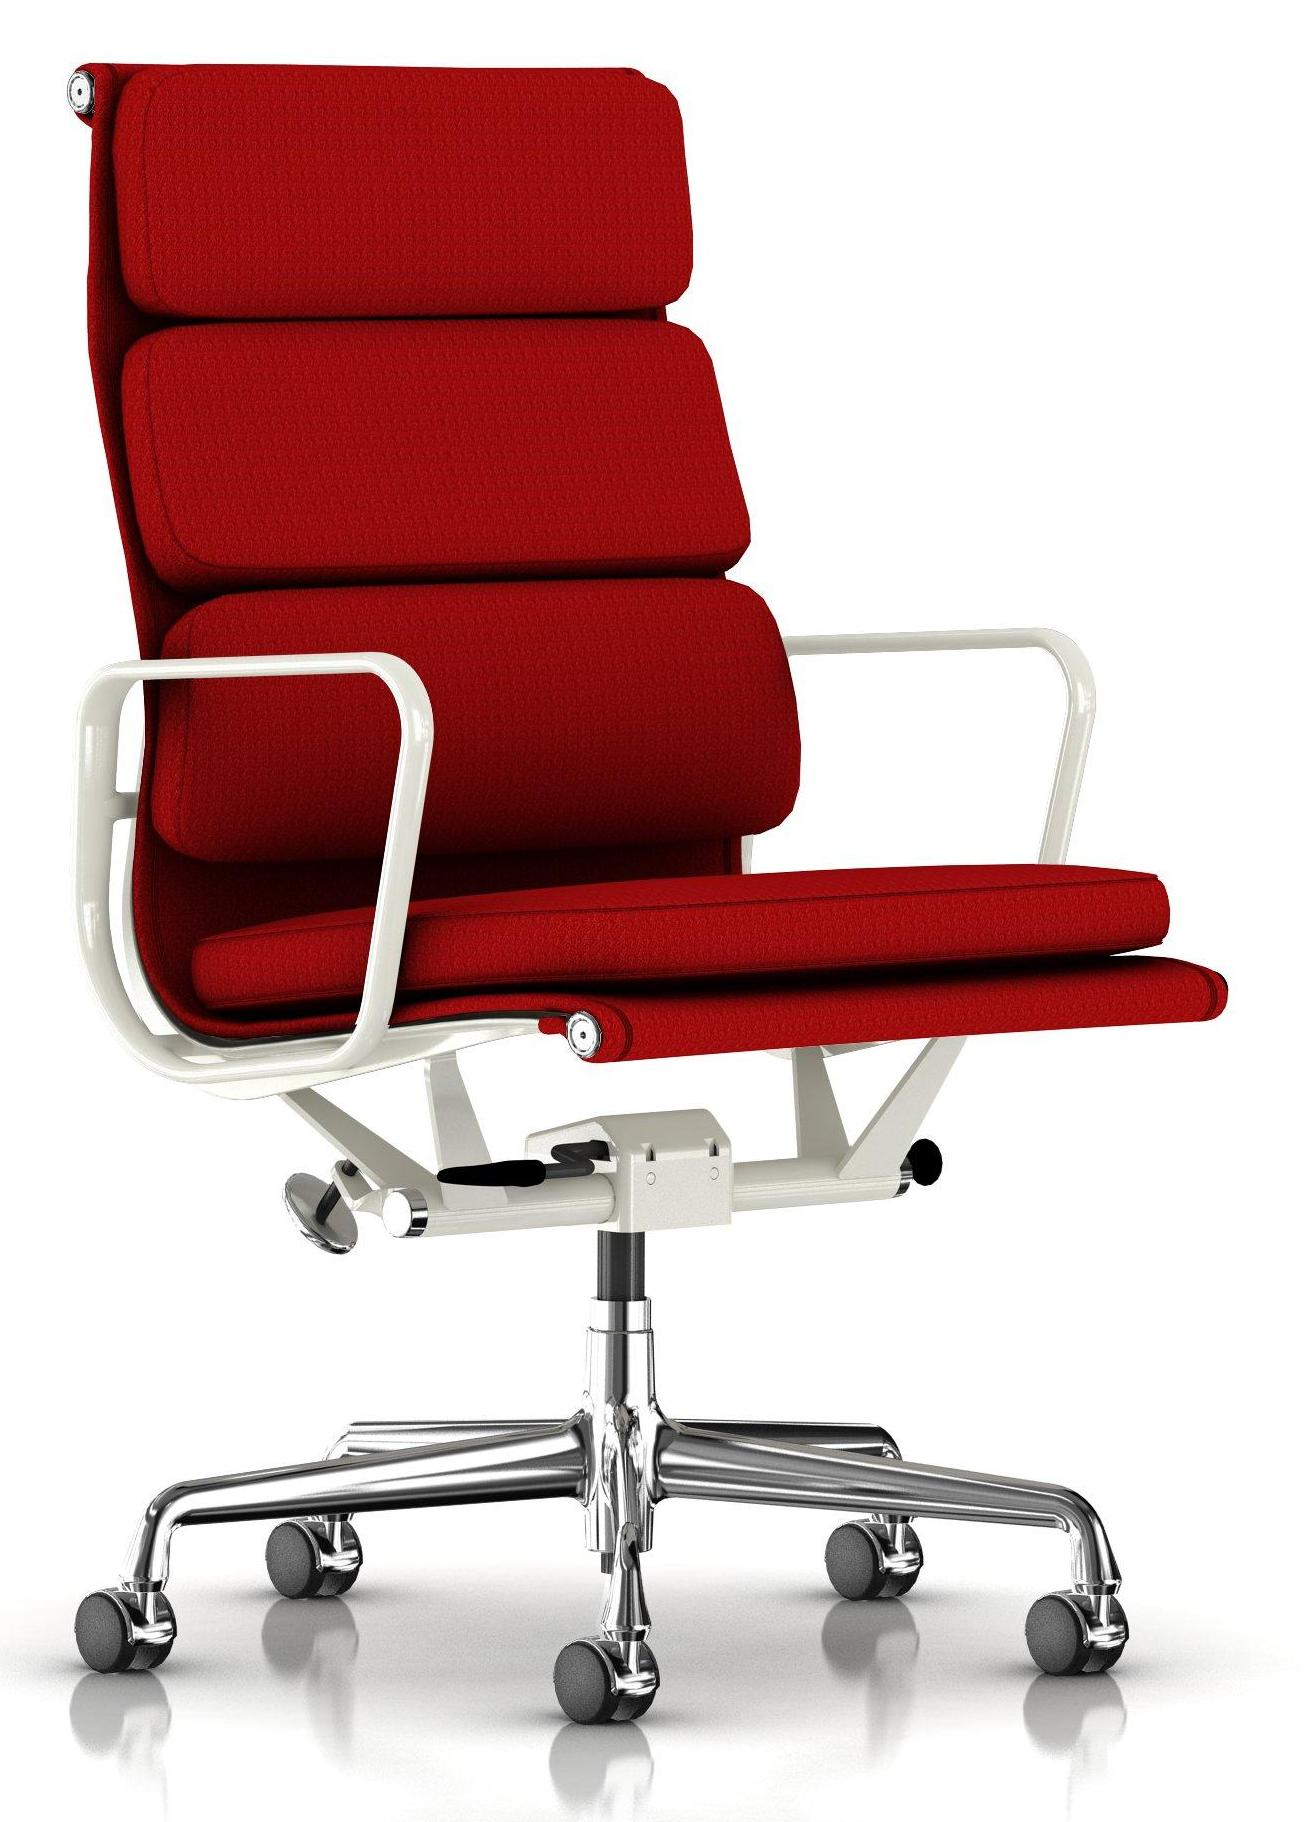chairs: (33, 64, 1237, 1734)
